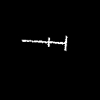double_crochet: (22, 36, 66, 49)
